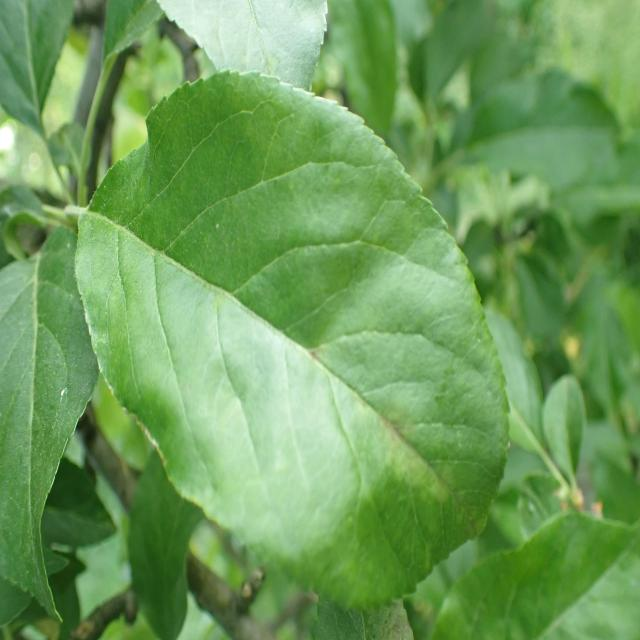scab: (235, 296, 513, 586)
